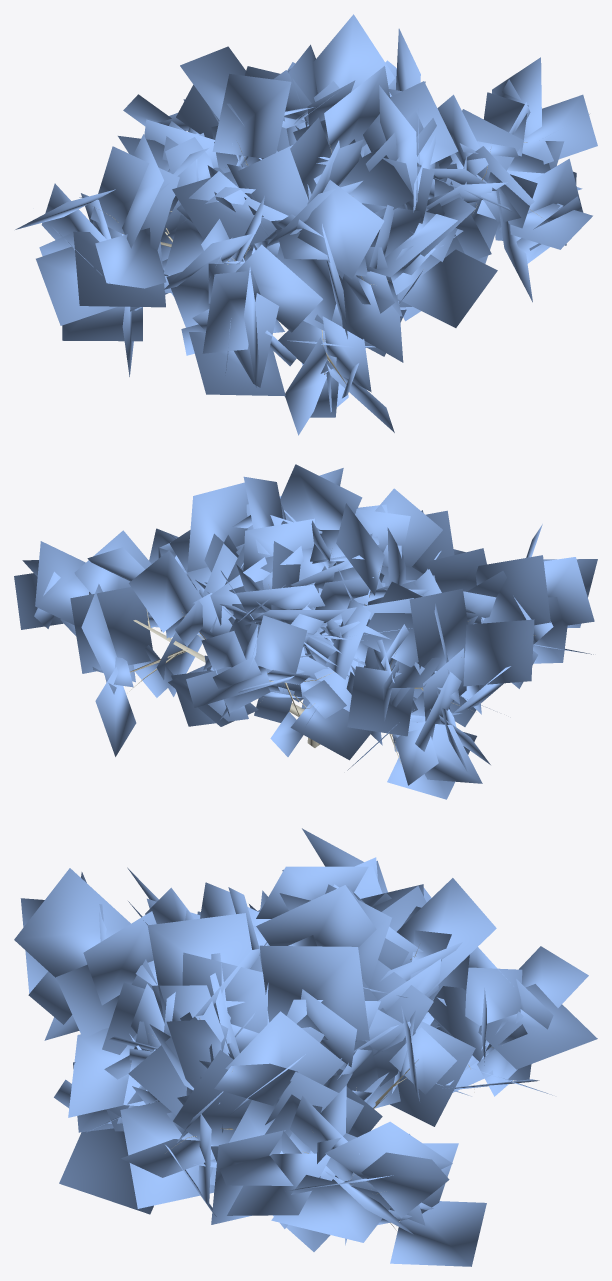
Rendered from bush_3_v0_lod2.glb.
3 views of the same model, one above another, from view 1: azimuth 30°, elevation 25°; view 2: azimuth 150°, elevation 25°; view 3: azimuth 270°, elevation 25° (orthographic). The views are drawn at different scales.
Parts seen in each view (by area): view 1: Leaves; view 2: Leaves, Branches; view 3: Leaves.
Part boxes in pixels (left/top/right/bottom): Leaves: left=15, top=14, right=597, bottom=435; Leaves: left=14, top=464, right=597, bottom=799; Branches: left=88, top=571, right=535, bottom=764; Leaves: left=14, top=828, right=597, bottom=1266.
Bounding box in the file's own units: 41.49 × 21.73 × 32.02.
